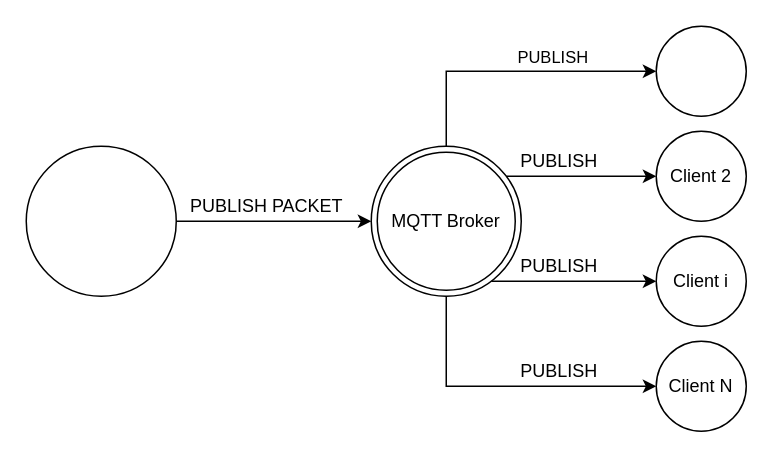
The diagram is 773 pixels wide and 458 high, and some of its shapes have lost their labels. Here are the shapes that lost their labels. From the top down, the box of each, then its label:
(655, 25, 746, 116): Client 1
(25, 145, 176, 296): MQTT Client
